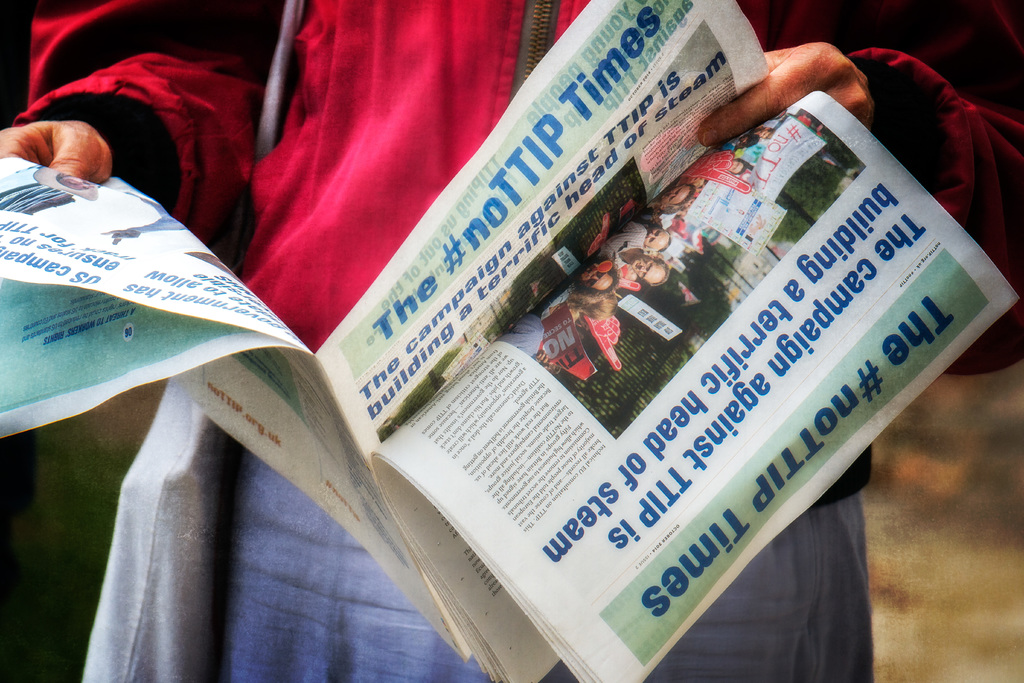Human_hand: (698, 41, 877, 146), (0, 118, 113, 184)
